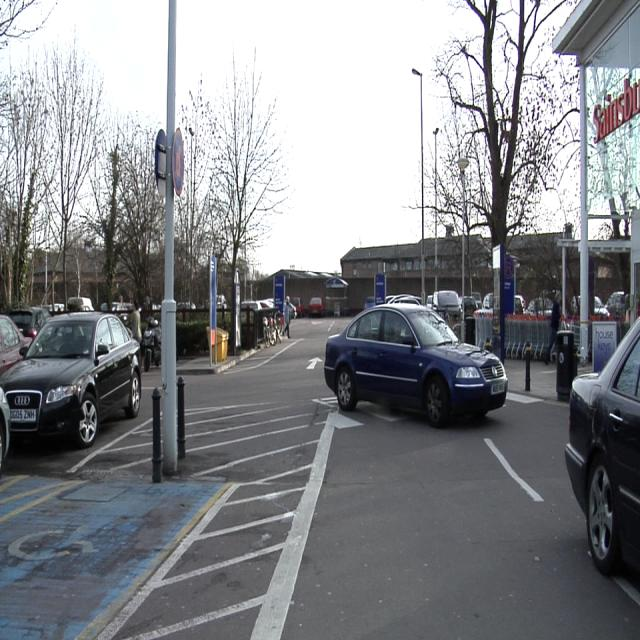Building: (276, 242, 421, 314), (425, 237, 461, 296), (466, 237, 491, 292), (256, 275, 274, 298)
Car: (324, 307, 509, 427), (565, 318, 640, 568), (2, 313, 138, 446), (426, 292, 460, 318)
Road: (0, 320, 640, 638)
